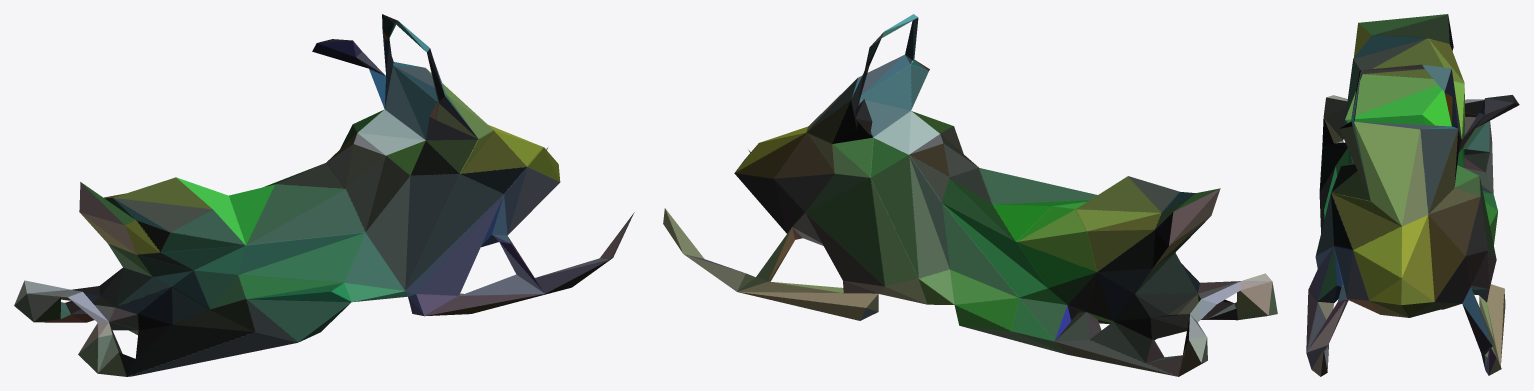
The model's file is snowmobile.fbx.
3 renders of one model, left to right at view 1: azimuth 30°, elevation 25°; view 2: azimuth 150°, elevation 25°; view 3: azimuth 270°, elevation 25°, orthographic. The views are drawn at different scales.
Visible parts, largest first — view 1: Mesh_0; view 2: Mesh_0; view 3: Mesh_0.
Part boxes in pixels (bbox=[...]): Mesh_0: bbox=[14, 14, 634, 376]; Mesh_0: bbox=[663, 14, 1277, 376]; Mesh_0: bbox=[1306, 14, 1519, 376].
Bounding box in the file's own units: 119 × 54.39 × 41.63.
1 material, 1 textured.
